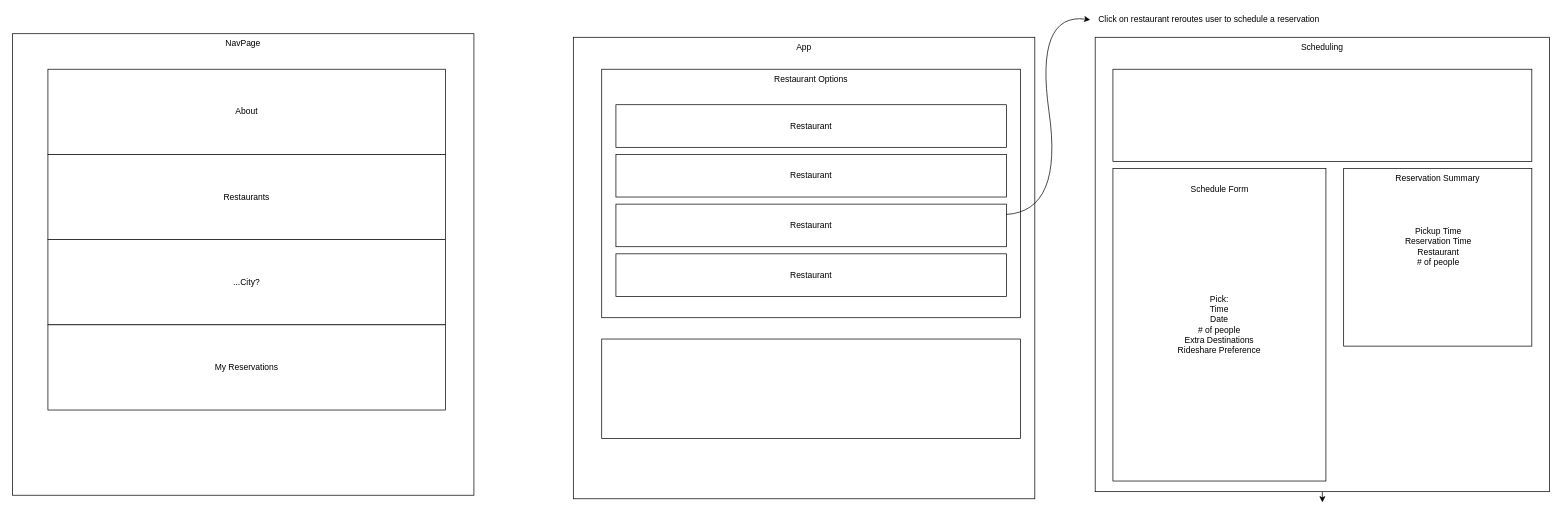
This 1562x520 diagram has some shape labels left out. Here are the shapes that lost their labels. From the top down, the centre of each, then its label:
At point (1322, 115): "Restaurant Description/Header".
At point (811, 388): "Randomizer?".
